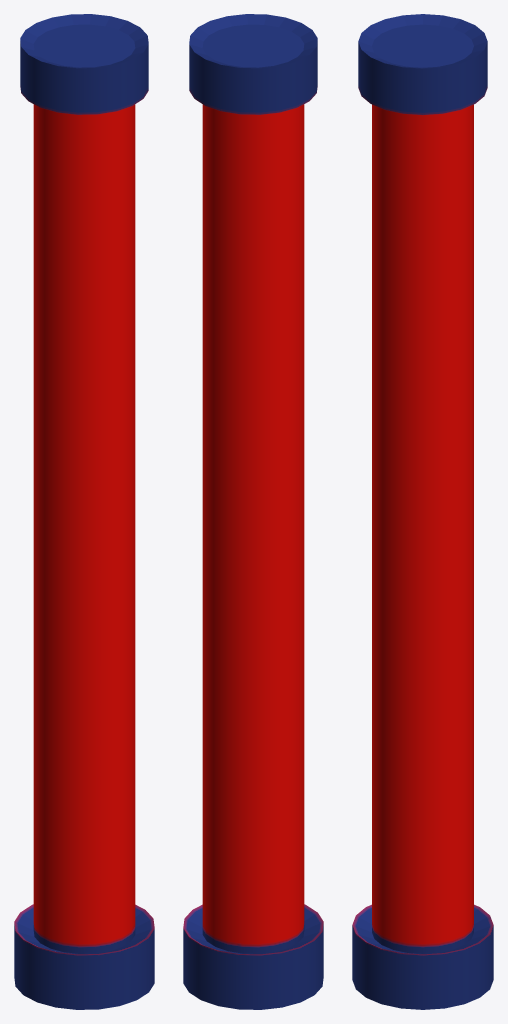
Rendered from Lab Buizen model 1.fbx.
3 renders of one model, left to right at view 1: azimuth 30°, elevation 25°; view 2: azimuth 150°, elevation 25°; view 3: azimuth 270°, elevation 25°, orthographic.
Parts seen in each view (by area): view 1: pCylinder1; view 2: pCylinder1; view 3: pCylinder1.
Boxes of the visible parts, bbox=[...] form: pCylinder1: bbox=[14, 14, 154, 1009]; pCylinder1: bbox=[183, 14, 323, 1009]; pCylinder1: bbox=[352, 14, 493, 1009].
Size of the model in its own units: 27.61 by 203 by 27.61.
1 material, 1 textured.
